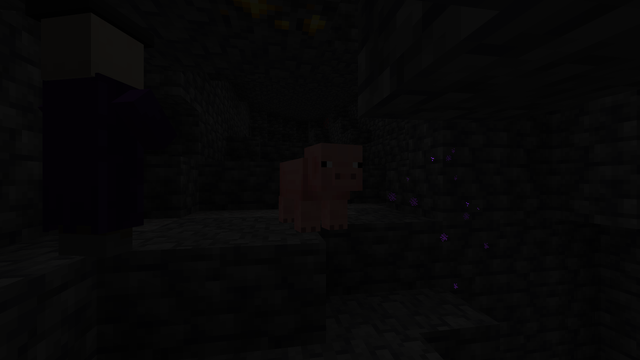cochons: (278, 156, 352, 232)
sorcieres: (21, 0, 151, 265)
